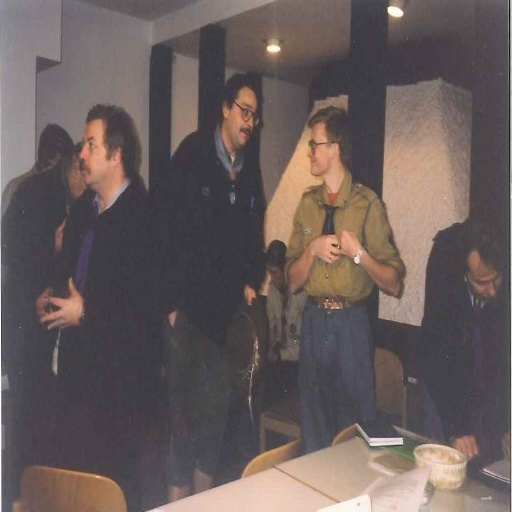hand: (36, 279, 82, 339), (308, 232, 343, 266), (337, 228, 360, 260), (38, 286, 52, 328), (455, 435, 478, 458), (53, 215, 66, 254), (244, 280, 256, 307), (500, 433, 511, 462), (167, 310, 178, 327)
